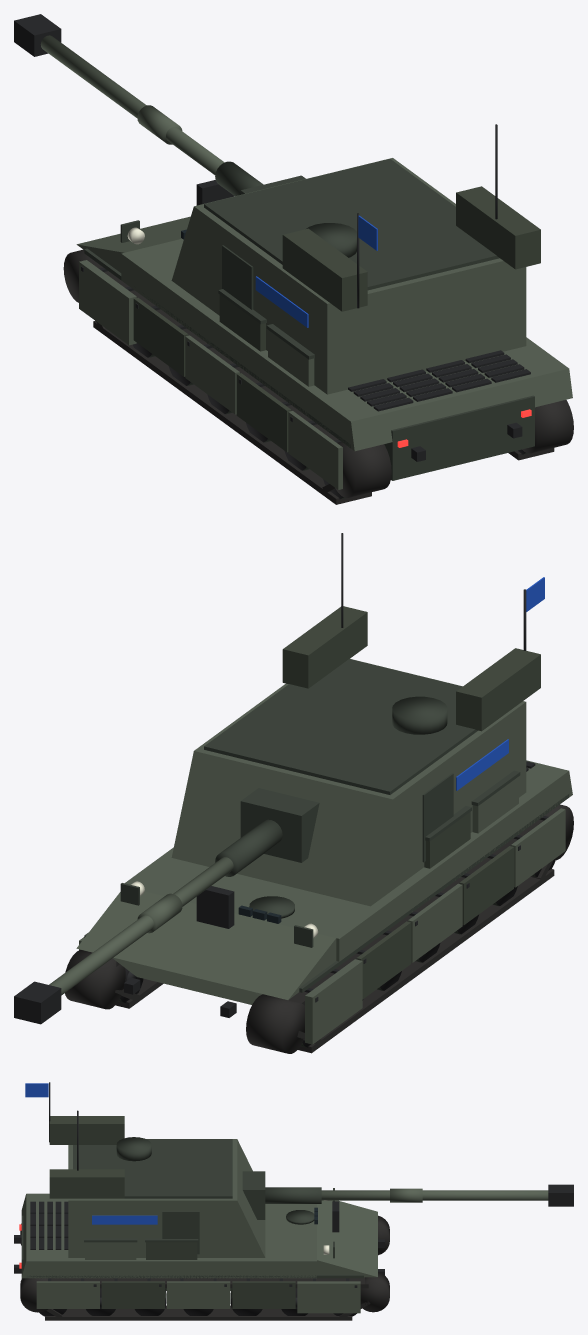
The model's file is Artillery_Blue.fbx.
3 views of the same model, one above another, from view 1: azimuth 30°, elevation 25°; view 2: azimuth 150°, elevation 25°; view 3: azimuth 270°, elevation 25° (orthographic). The views are drawn at different scales.
Parts seen in each view (by area): view 1: TurretBody, TurretRoof, UpperHull, LowerHull, RearSlope, AmmoRackR, AmmoRackL, RearPlate, TrackBottomL, Barrel, SkirtL0, SkirtL4 (+19 smaller); view 2: TurretRoof, TurretNose, UpperHull, Glacis, TurretBody, AmmoRackL, AmmoRackR, Mantlet, SkirtL0, TrackBottomL, Barrel, TrackWrapFrontL (+18 smaller); view 3: UpperHull, TurretBody, TurretRoof, Glacis, TrackBottomR, AmmoRackR, Barrel, AmmoRackL, SkirtR0, TurretNose, SkirtR1, SkirtR2 (+19 smaller).
Boxes of the visible parts, x1,y1,x2,y2 form: TurretBody: (194, 158, 526, 394); TurretRoof: (204, 159, 499, 290); UpperHull: (121, 239, 568, 447); LowerHull: (384, 407, 534, 480); RearSlope: (351, 368, 572, 451); AmmoRackR: (456, 186, 540, 269); AmmoRackL: (282, 228, 367, 311); RearPlate: (389, 395, 534, 480); TrackBottomL: (93, 321, 371, 504); Barrel: (40, 35, 224, 174); SkirtL0: (79, 260, 136, 345); SkirtL4: (288, 411, 342, 489); TurretRoof: (204, 659, 477, 794); TurretNose: (171, 751, 392, 906); UpperHull: (125, 760, 569, 961); Glacis: (76, 891, 336, 999); TurretBody: (194, 659, 526, 889); AmmoRackL: (456, 648, 540, 731); AmmoRackR: (282, 606, 367, 688); Mantlet: (240, 788, 319, 862); SkirtL0: (305, 959, 362, 1044); TrackBottomL: (298, 869, 554, 1053); Barrel: (49, 857, 233, 995); TrackWrapFrontL: (246, 994, 304, 1053); UpperHull: (26, 1193, 316, 1278); TurretBody: (68, 1139, 237, 1257); TurretRoof: (73, 1139, 232, 1198); Glacis: (317, 1200, 377, 1277); TrackBottomR: (45, 1305, 352, 1320); AmmoRackR: (49, 1169, 124, 1198); Barrel: (321, 1190, 548, 1200); AmmoRackL: (49, 1116, 124, 1144); SkirtR0: (297, 1281, 360, 1313); TurretNose: (237, 1139, 265, 1257); SkirtR1: (232, 1281, 295, 1308); SkirtR2: (167, 1281, 230, 1308).
Size of the model in its own units: 366 by 1194 by 470.
